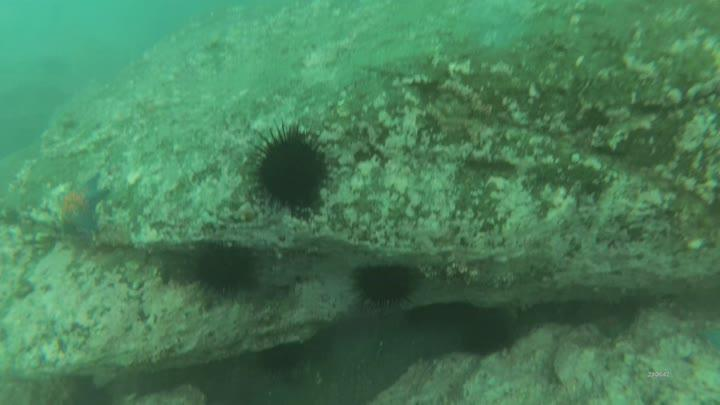urchin: (244, 119, 334, 210), (345, 263, 420, 313), (191, 241, 258, 288)
